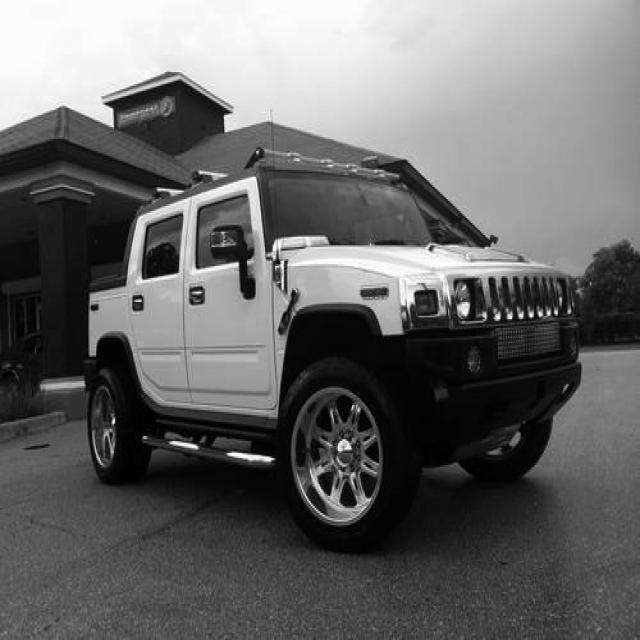plat_license: (80, 144, 582, 553)
